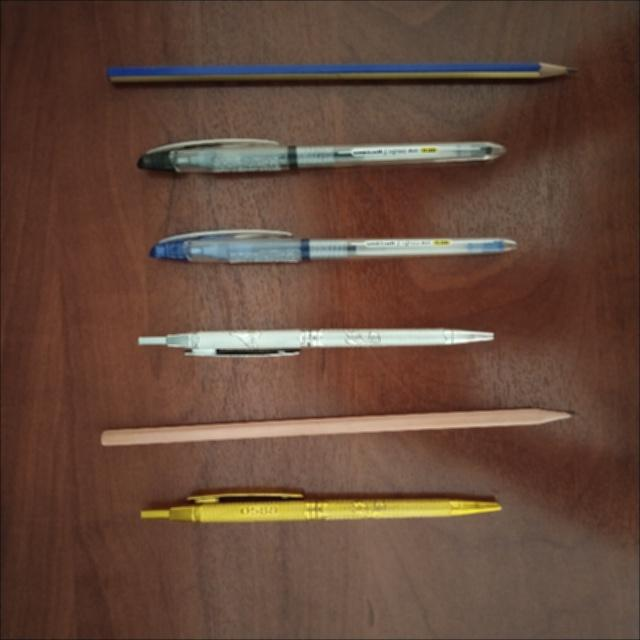pen: (137, 139, 504, 172), (150, 230, 516, 263)
pencil: (101, 408, 571, 445), (107, 62, 574, 82)
signature pen: (141, 493, 500, 522), (138, 328, 493, 355)
